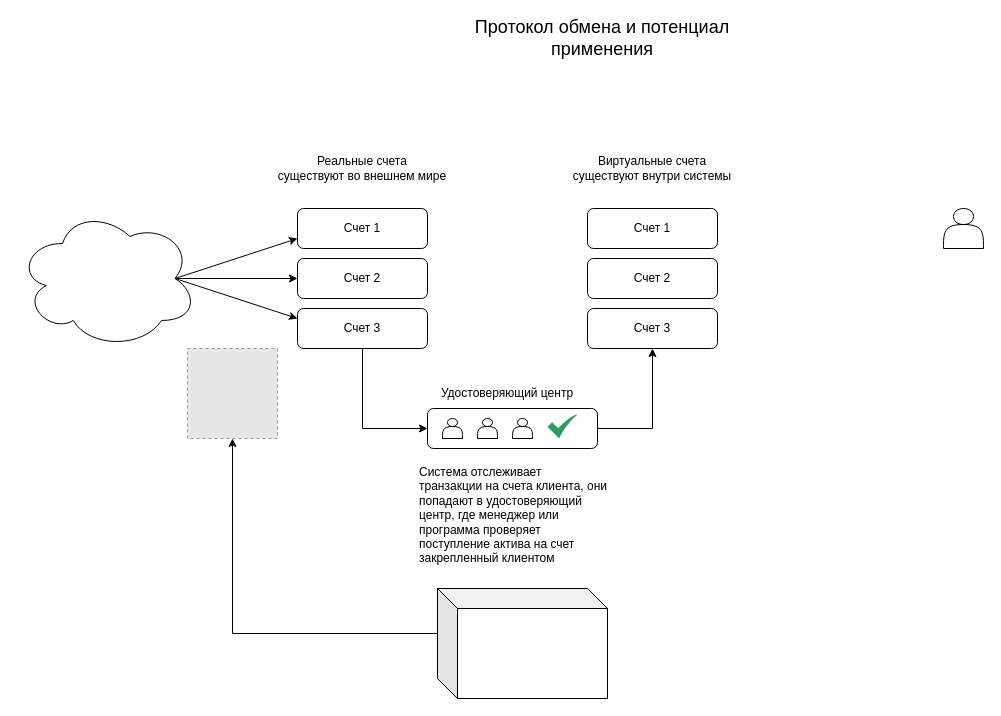
Image size: 1001x716. Some labels were removed from this diagram. Grey dashed boxes stand in for pictures. Each missing label, with the centre of its shape:
"Внешний мир": point (107, 278)
СИСТЕМА: point (522, 643)
